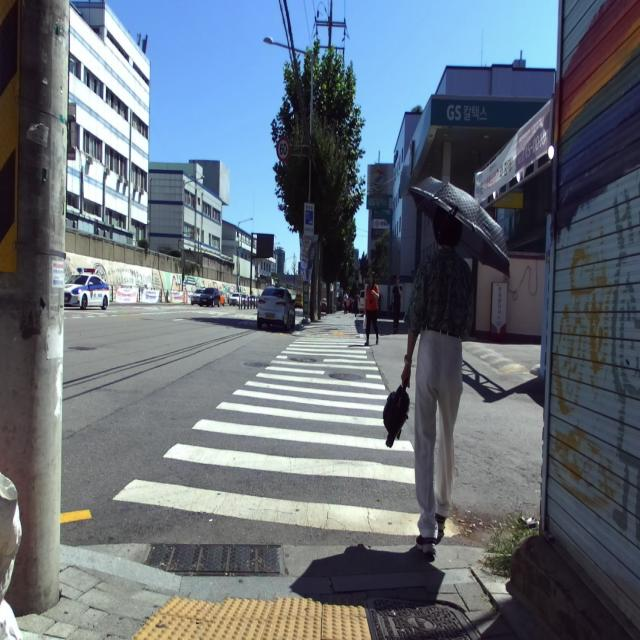횡단보도: (112, 337, 460, 537)
